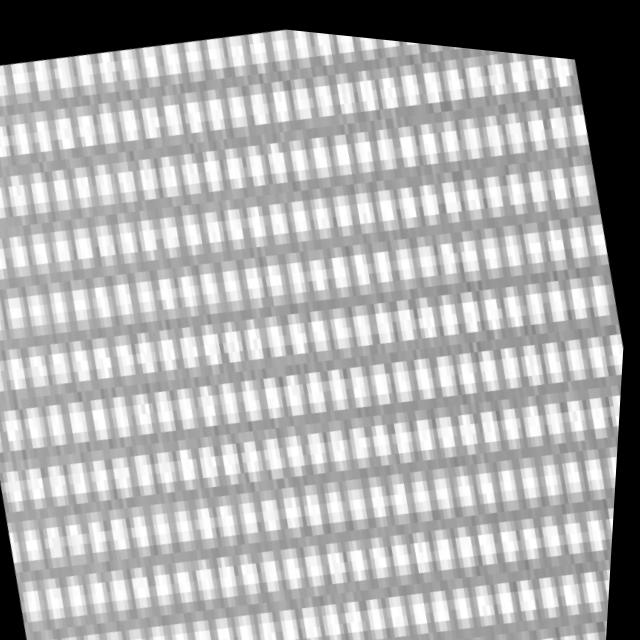metal-plates: (1, 24, 628, 640)
